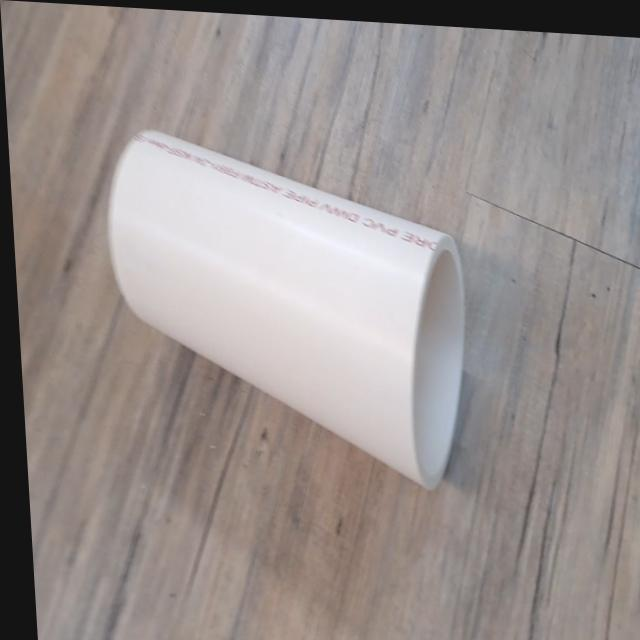CORAL: (99, 116, 487, 516)
